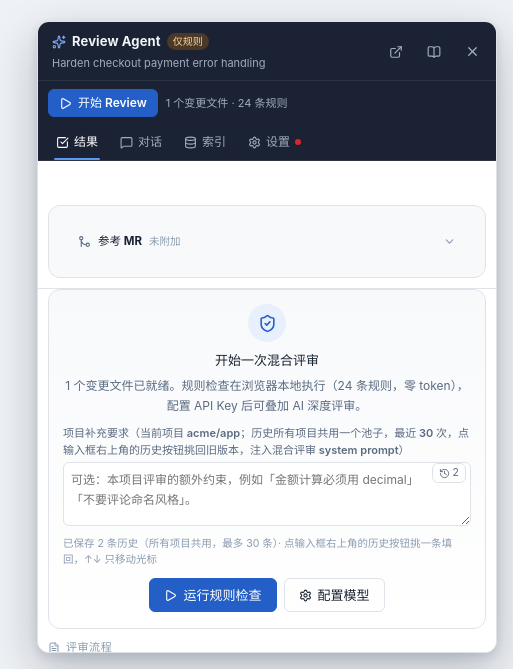
起始页项目补充要求历史 › 从历史列表挑回旧版本再失焦，把它提到最前，历史不重复增长
Expected: the text "开始一次混合评审" is shown, 215,352 -> 319,368
Expected: the button "开始 Review" is enabled, 48,89 -> 158,117
Click the button named "项目补充要求历史". click: point(449, 473)
box: 432,463 -> 466,483
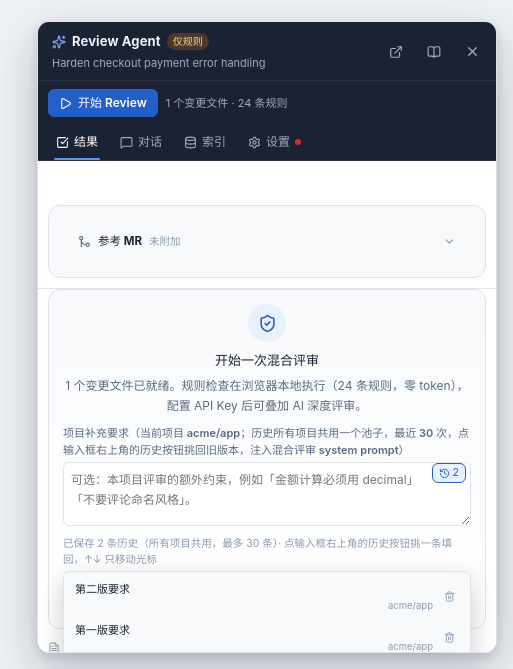
Click the option "第一版要求 acme/app". click: point(102, 630)
box: 68,617 -> 466,658
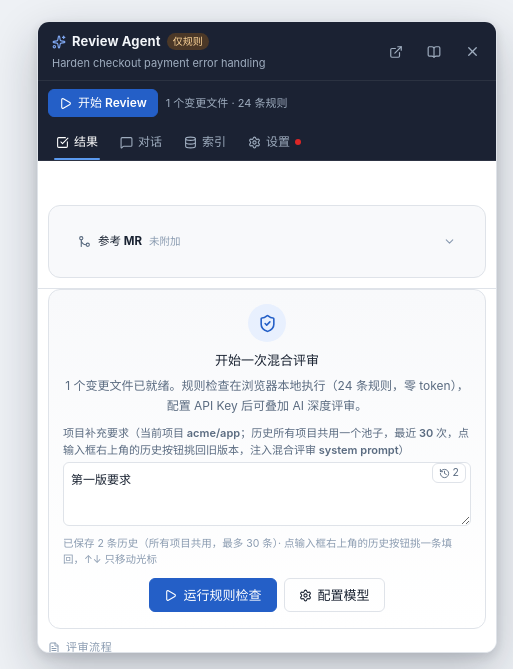
Result: the text box named "项目补充要求" holds "第一版要求" at 63,462 -> 471,526
